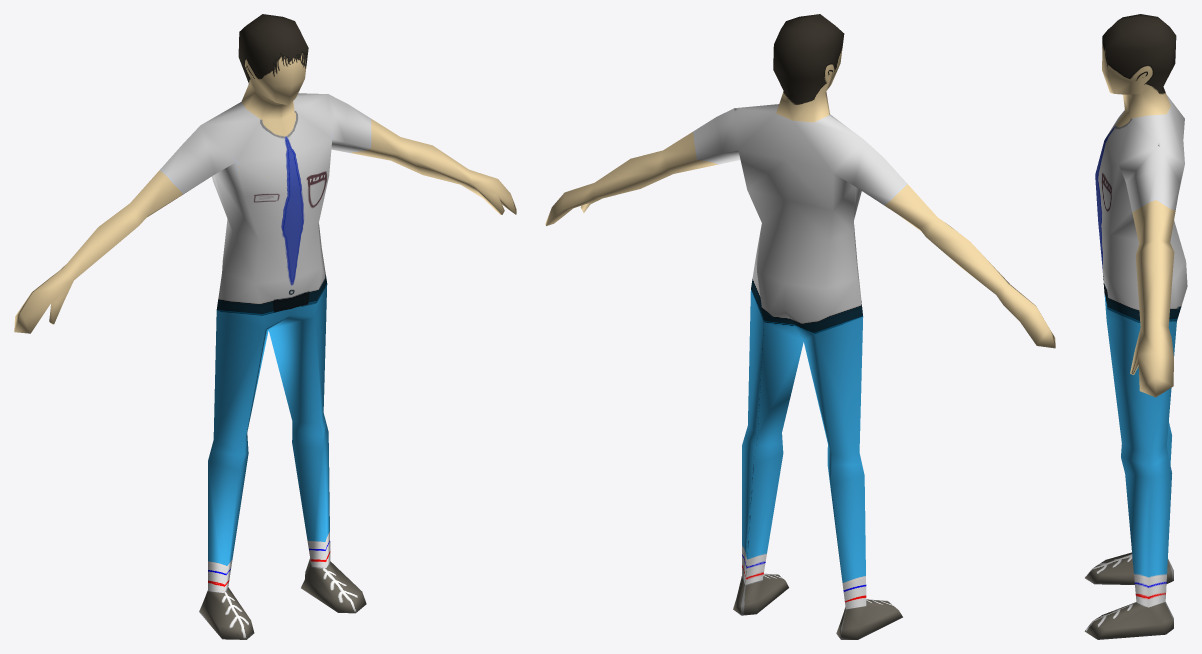
The model's file is Xnxx.fbx.
The picture shows the model from 3 angles, left to right: view 1: azimuth 30°, elevation 25°; view 2: azimuth 150°, elevation 25°; view 3: azimuth 270°, elevation 25°; orthographic projection.
Parts seen in each view (by area): view 1: HumanoidBase_Overlapping; view 2: HumanoidBase_Overlapping; view 3: HumanoidBase_Overlapping.
Boxes of the visible parts, x1=… form: HumanoidBase_Overlapping: x1=14, y1=14, x2=516, y2=639; HumanoidBase_Overlapping: x1=545, y1=14, x2=1055, y2=639; HumanoidBase_Overlapping: x1=1084, y1=14, x2=1187, y2=639.
Bounding box in the file's own units: 161 × 180 × 28.62.
